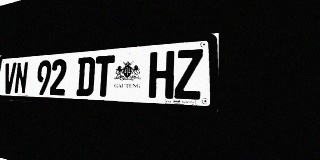2: (50, 59, 67, 95)
9: (36, 60, 52, 95)
D: (76, 57, 95, 96)
H: (148, 51, 175, 99)
N: (14, 61, 29, 94)
T: (94, 55, 115, 97)
V: (3, 62, 16, 94)
Z: (174, 49, 203, 100)
